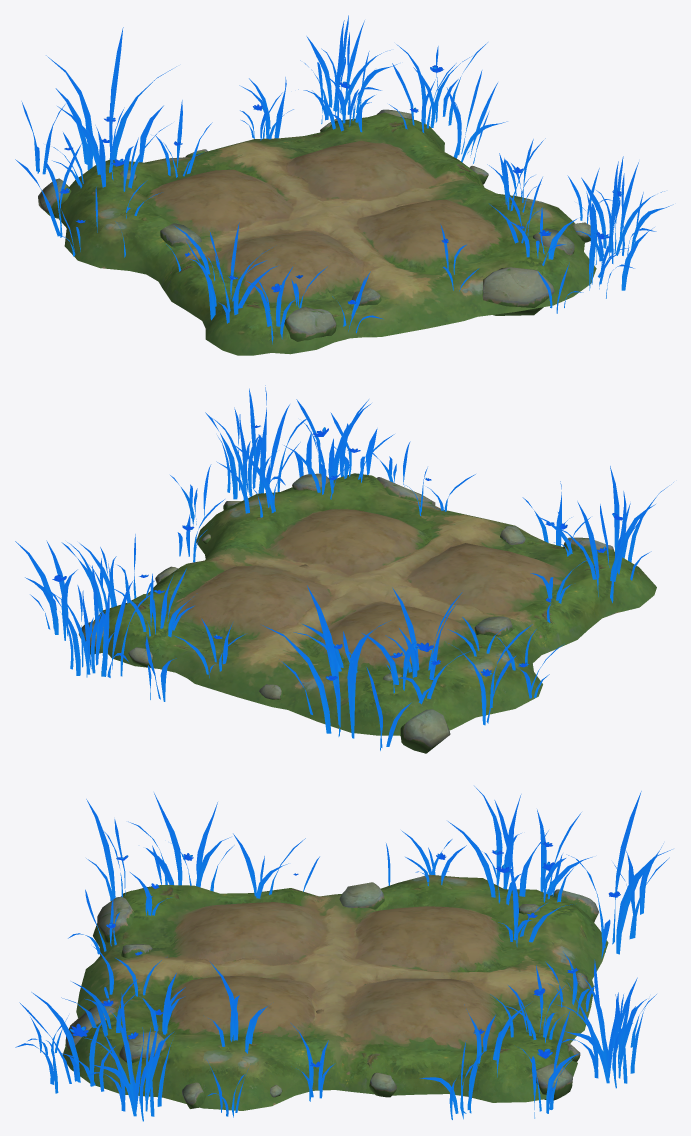
Rendered from Homeworld_Exterior_Common_Thing_FieldBase_01_Lod0.fbx.
3 renders of one model, top to bottom at view 1: azimuth 30°, elevation 25°; view 2: azimuth 150°, elevation 25°; view 3: azimuth 270°, elevation 25°, orthographic. The views are drawn at different scales.
Parts seen in each view (by area): view 1: Homeworld_Exterior_Common_Thing_Field_01_Lod0, Homeworld_Exterior_Common_Thing_FieldGrass_01_Lod0; view 2: Homeworld_Exterior_Common_Thing_Field_01_Lod0, Homeworld_Exterior_Common_Thing_FieldGrass_01_Lod0; view 3: Homeworld_Exterior_Common_Thing_Field_01_Lod0, Homeworld_Exterior_Common_Thing_FieldGrass_01_Lod0.
Part boxes in pixels (x1,y1,x2,y2): Homeworld_Exterior_Common_Thing_Field_01_Lod0: (38,109,596,355); Homeworld_Exterior_Common_Thing_FieldGrass_01_Lod0: (15,15,673,344); Homeworld_Exterior_Common_Thing_Field_01_Lod0: (78,473,656,753); Homeworld_Exterior_Common_Thing_FieldGrass_01_Lod0: (15,385,673,750); Homeworld_Exterior_Common_Thing_Field_01_Lod0: (62,874,608,1110); Homeworld_Exterior_Common_Thing_FieldGrass_01_Lod0: (15,786,672,1121).
Bounding box in the file's own units: 5.19 × 1.39 × 5.57.
